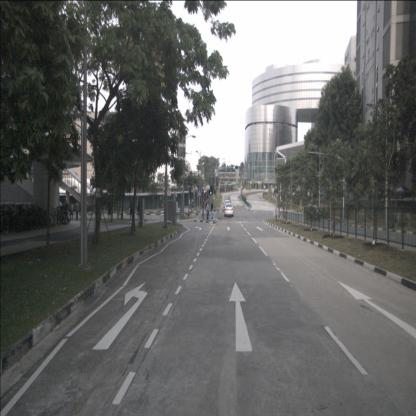human-pedestrian-adult: (129, 199, 134, 221), (137, 201, 141, 226), (191, 202, 195, 220), (70, 202, 74, 220), (65, 200, 69, 218), (59, 199, 63, 217), (206, 202, 210, 220), (108, 200, 111, 221), (76, 201, 79, 220), (210, 201, 214, 215), (205, 200, 208, 215)
vehicle-car: (306, 204, 320, 221), (224, 203, 234, 217), (223, 200, 230, 211)
